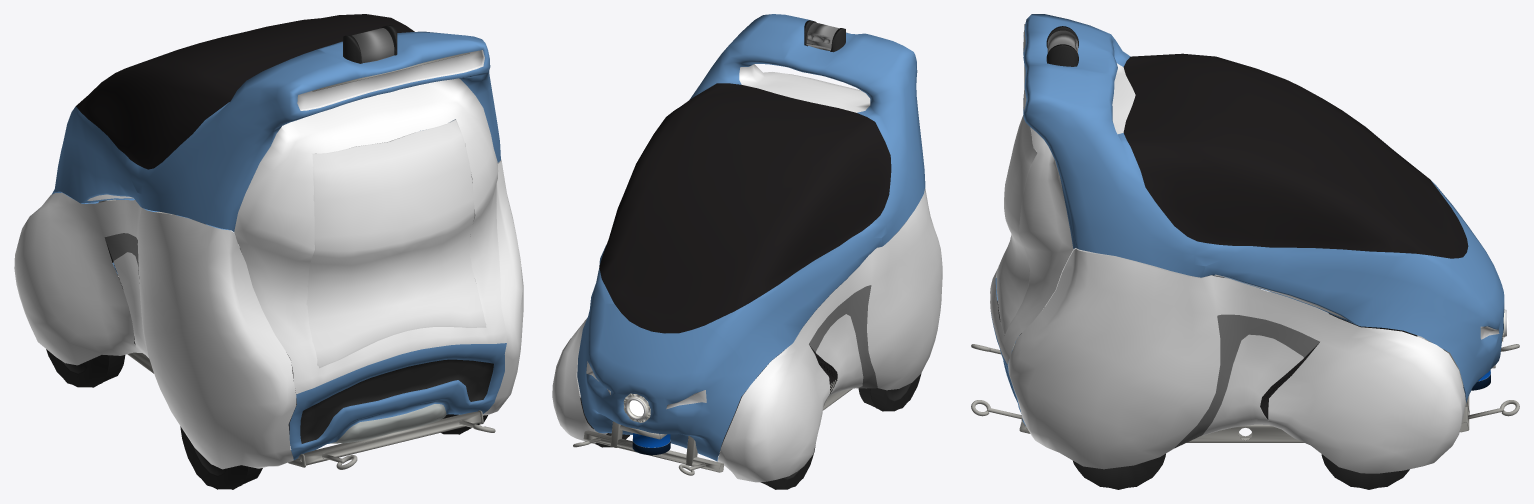
File: PatrolRobot.glb
The picture shows the model from 3 angles, left to right: view 1: azimuth 30°, elevation 25°; view 2: azimuth 150°, elevation 25°; view 3: azimuth 270°, elevation 25°; orthographic projection. The views are drawn at different scales.
Visible parts, largest first — view 1: Plane, Cylinder.001, Cylinder; view 2: Plane, Cylinder, Cylinder.001; view 3: Plane, Cylinder.002, Cylinder.003.
Part boxes in pixels (left/top/right/bottom): Plane: left=14, top=14, right=523, bottom=469; Cylinder.001: left=46, top=349, right=125, bottom=387; Cylinder: left=180, top=426, right=262, bottom=489; Plane: left=552, top=14, right=942, bottom=482; Cylinder: left=858, top=373, right=921, bottom=411; Cylinder.001: left=760, top=445, right=815, bottom=489; Plane: left=971, top=14, right=1519, bottom=473; Cylinder.002: left=1073, top=453, right=1165, bottom=489; Cylinder.003: left=1321, top=454, right=1409, bottom=489.
Bounding box in the file's own units: 0.8356 × 1.09 × 1.35.
